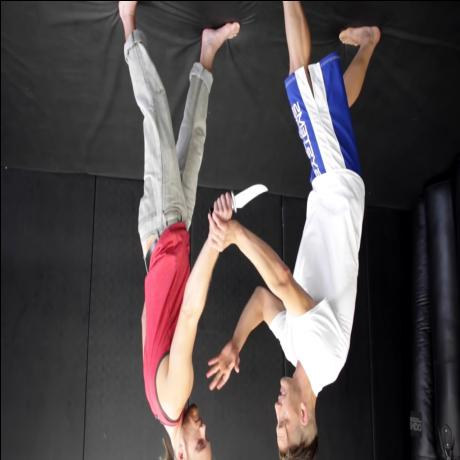1: (206, 0, 382, 460), (117, 0, 237, 460)
weapon: (208, 180, 268, 218)
